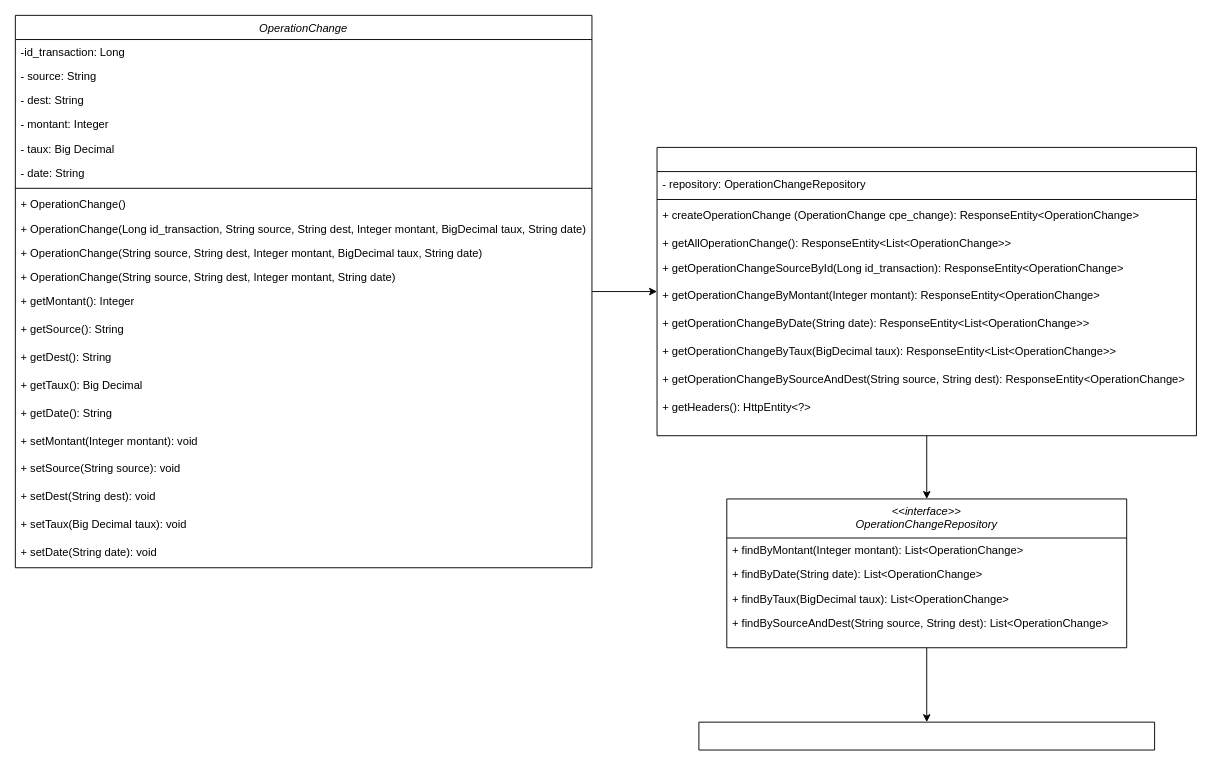
Some shapes in this 1212 by 765 pixel diagram are drawn without their labels. Here are the shapes that lost their labels. From the top down, the box of each, then its label:
(656, 146, 1196, 436): OperationController
(698, 721, 1155, 750): org.springframework.data.jpa.repository.JpaRepository
